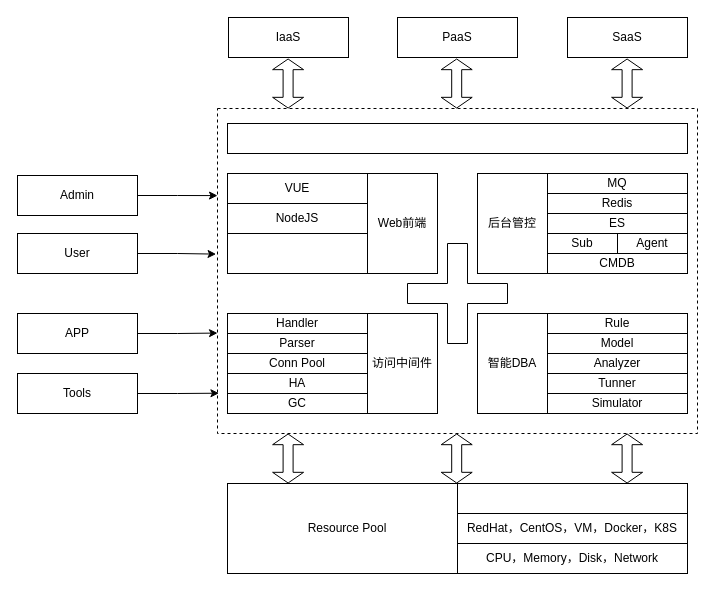
Some shapes in this 715 by 591 pixel diagram are drawn without their labels. Each missing label, with the centre of its shape:
"API" belongs at point (457, 293).
"ElementUI" belongs at point (297, 253).
"Open API" belongs at point (457, 138).
"Oracle，Tidb，GreenPlum，Dameng" belongs at point (572, 498).
